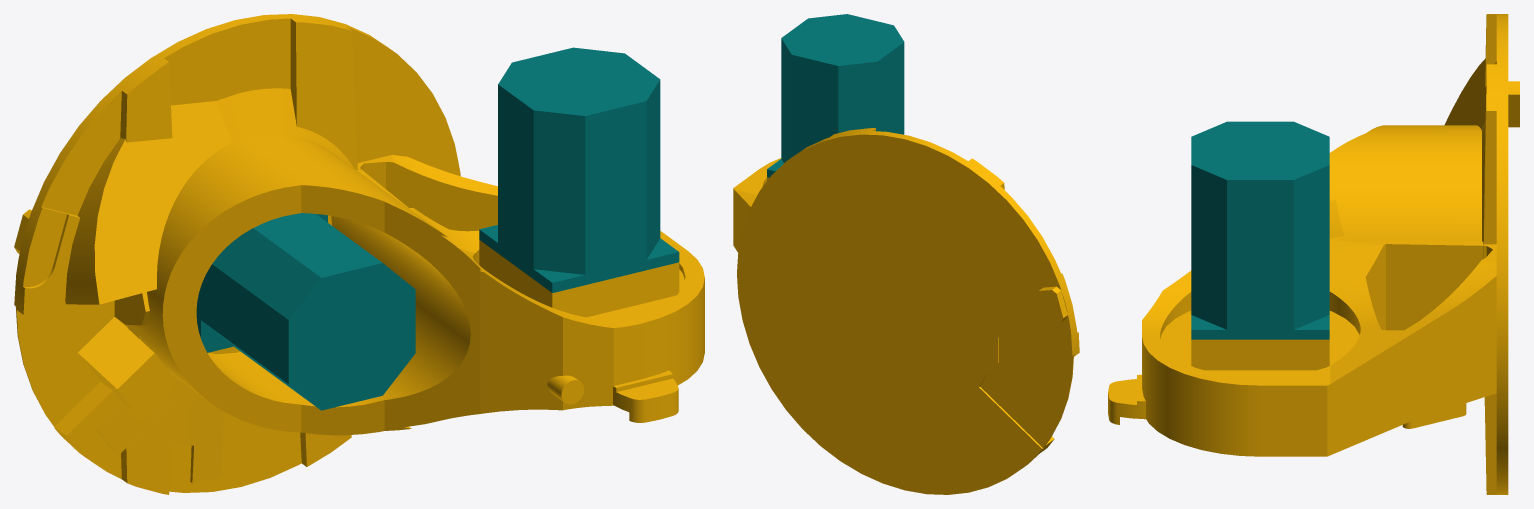
3 views of the same model, side by side, from view 1: azimuth 30°, elevation 25°; view 2: azimuth 150°, elevation 25°; view 3: azimuth 270°, elevation 25° (orthographic). The views are drawn at different scales.
Parts seen in each view (by area): view 1: KR16-AV300.sldasm-Part-15-2, KR16-AV300.sldasm-Part-2-1-1, KR16-AV300.sldasm-Part-8-1-1; view 2: KR16-AV300.sldasm-Part-15-2, KR16-AV300.sldasm-Part-2-1-1; view 3: KR16-AV300.sldasm-Part-15-2, KR16-AV300.sldasm-Part-2-1-1.
Part boxes in pixels (x1,y1,x2,y2): KR16-AV300.sldasm-Part-15-2: (14,14,704,494); KR16-AV300.sldasm-Part-2-1-1: (479,47,679,292); KR16-AV300.sldasm-Part-8-1-1: (196,213,415,410); KR16-AV300.sldasm-Part-15-2: (733,128,1079,494); KR16-AV300.sldasm-Part-2-1-1: (767,14,904,177); KR16-AV300.sldasm-Part-15-2: (1108,14,1519,494); KR16-AV300.sldasm-Part-2-1-1: (1191,121,1329,339).
Size of the model in its own units: 0.663 by 0.54 by 0.4619.
